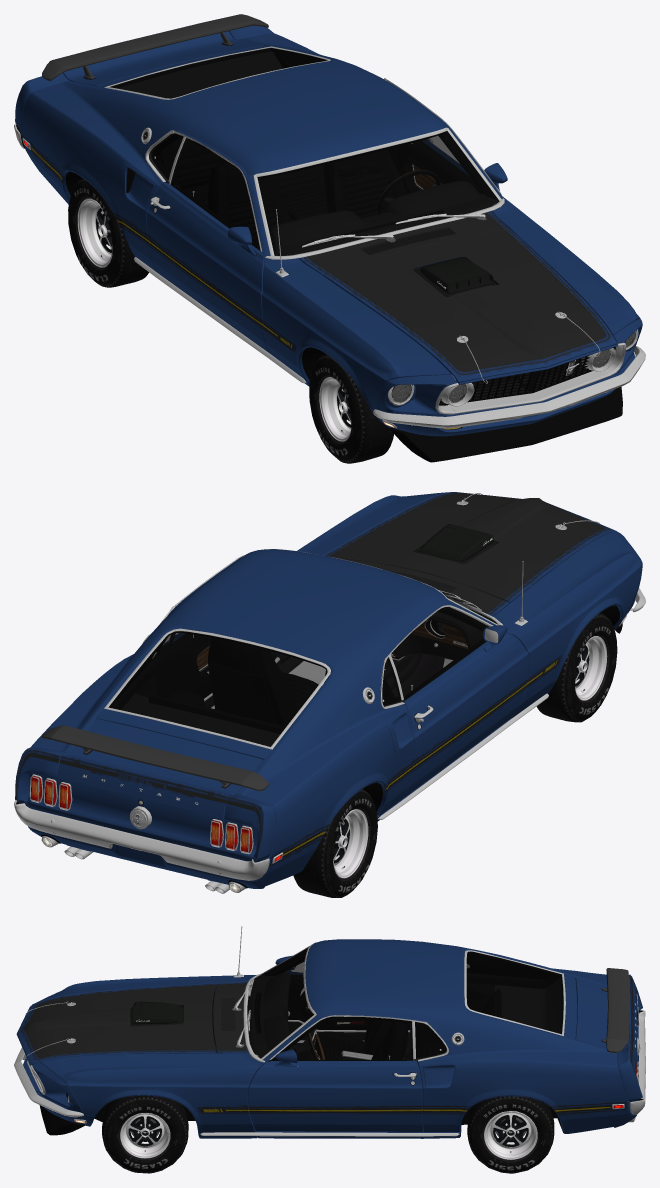
File: musclecar.glb
3 renders of one model, top to bottom at view 1: azimuth 30°, elevation 25°; view 2: azimuth 150°, elevation 25°; view 3: azimuth 270°, elevation 25°, orthographic. The views are drawn at different scales.
Size of the model in its own units: 0.0184 by 0.0133 by 0.0477.
Materials: 22 (19 with a texture image).
